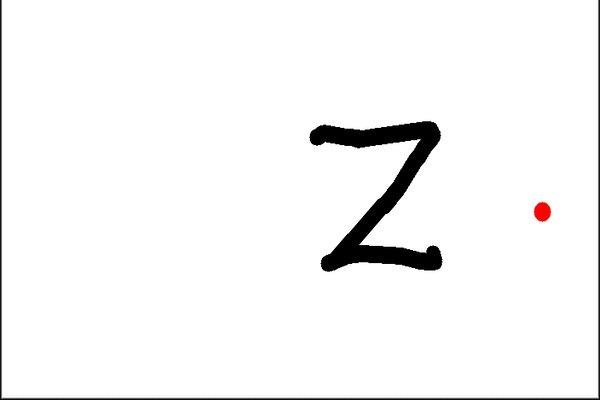Z: (303, 112, 450, 275)
